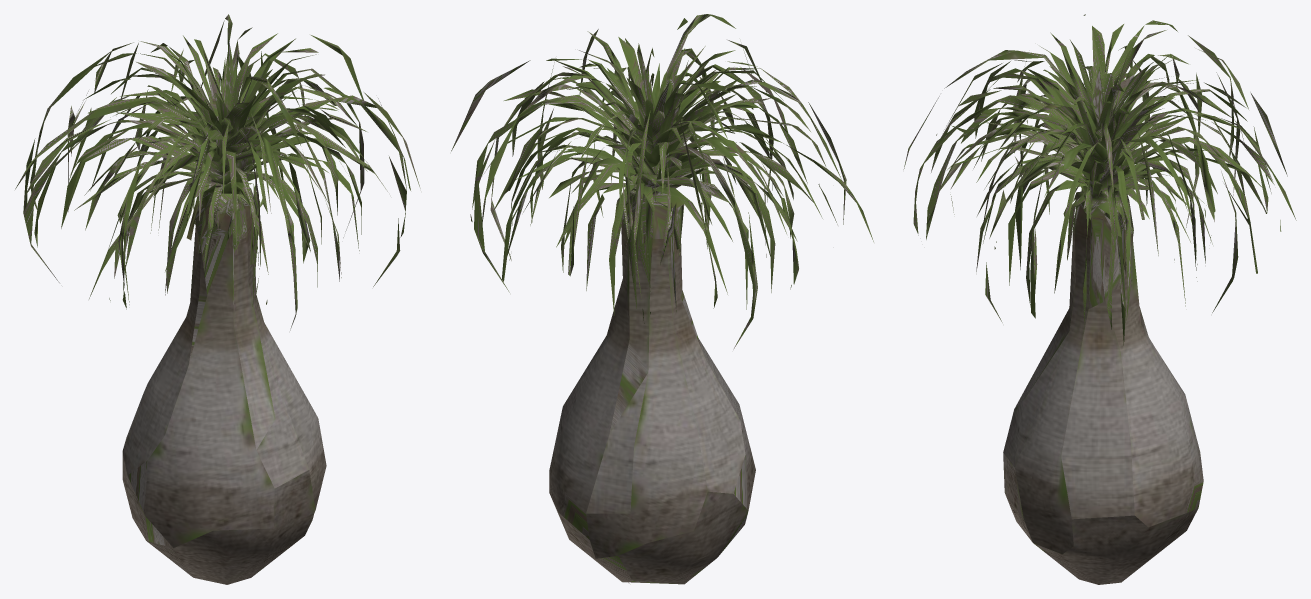
The model's file is 17_ponytail_palm.glb.
3 renders of one model, left to right at view 1: azimuth 30°, elevation 25°; view 2: azimuth 150°, elevation 25°; view 3: azimuth 270°, elevation 25°, orthographic. The views are drawn at different scales.
Visible parts, largest first — view 1: world; view 2: world; view 3: world.
Part boxes in pixels (box(x1,y1,x2,y2)): world: box(15, 14, 420, 584); world: box(451, 14, 873, 584); world: box(903, 14, 1296, 584).
Bounding box in the file's own units: 0.6998 × 0.9876 × 0.6753.
Materials: 1 (1 with a texture image).
